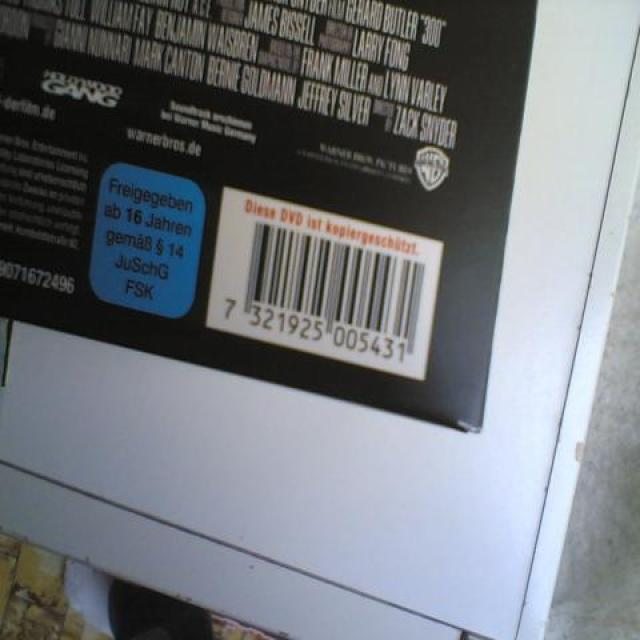Barcode: (204, 181, 447, 384)
